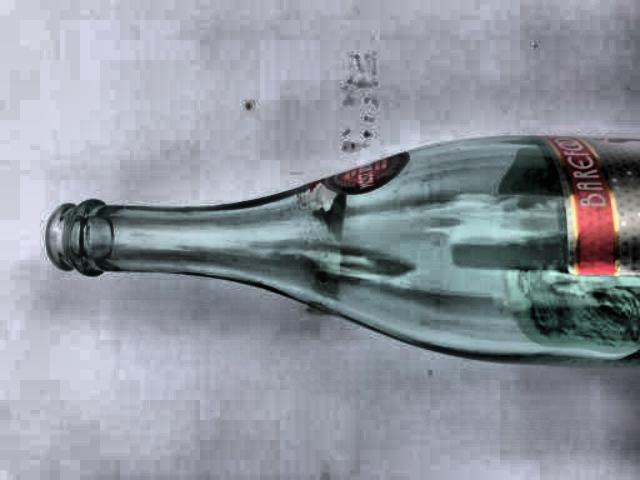Bottles: (0, 109, 640, 405)
